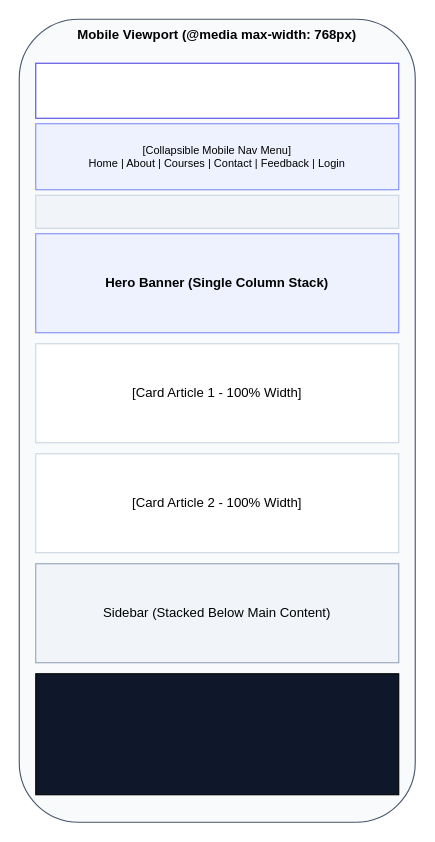
The diagram is 435 pixels wide and 842 high, and some of its shapes have lost their labels. Each missing label, with the centre of its shape:
"Footer (Single Column Links Stack)" belongs at point (217, 734).
"Home > Active Page" belongs at point (217, 211).
"StudentHub [≡ Menu Button]" belongs at point (217, 90).
